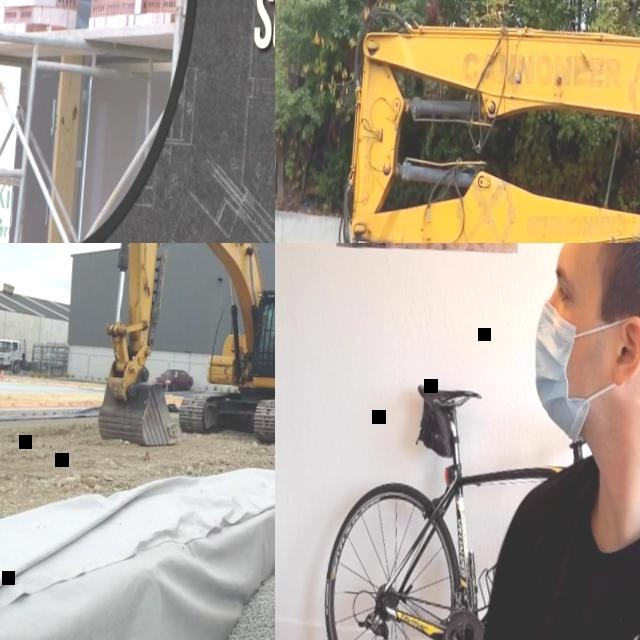Mask: (526, 297, 626, 452)
NO-Safety Vest: (505, 457, 640, 640)
Person: (442, 243, 640, 640)
machinery: (336, 0, 640, 243), (97, 243, 275, 459), (0, 334, 33, 373)
vehicle: (153, 365, 194, 392)
